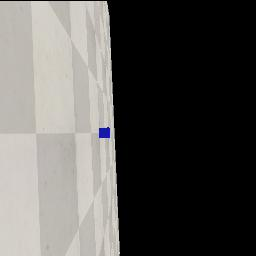box: (99, 127, 110, 138)
